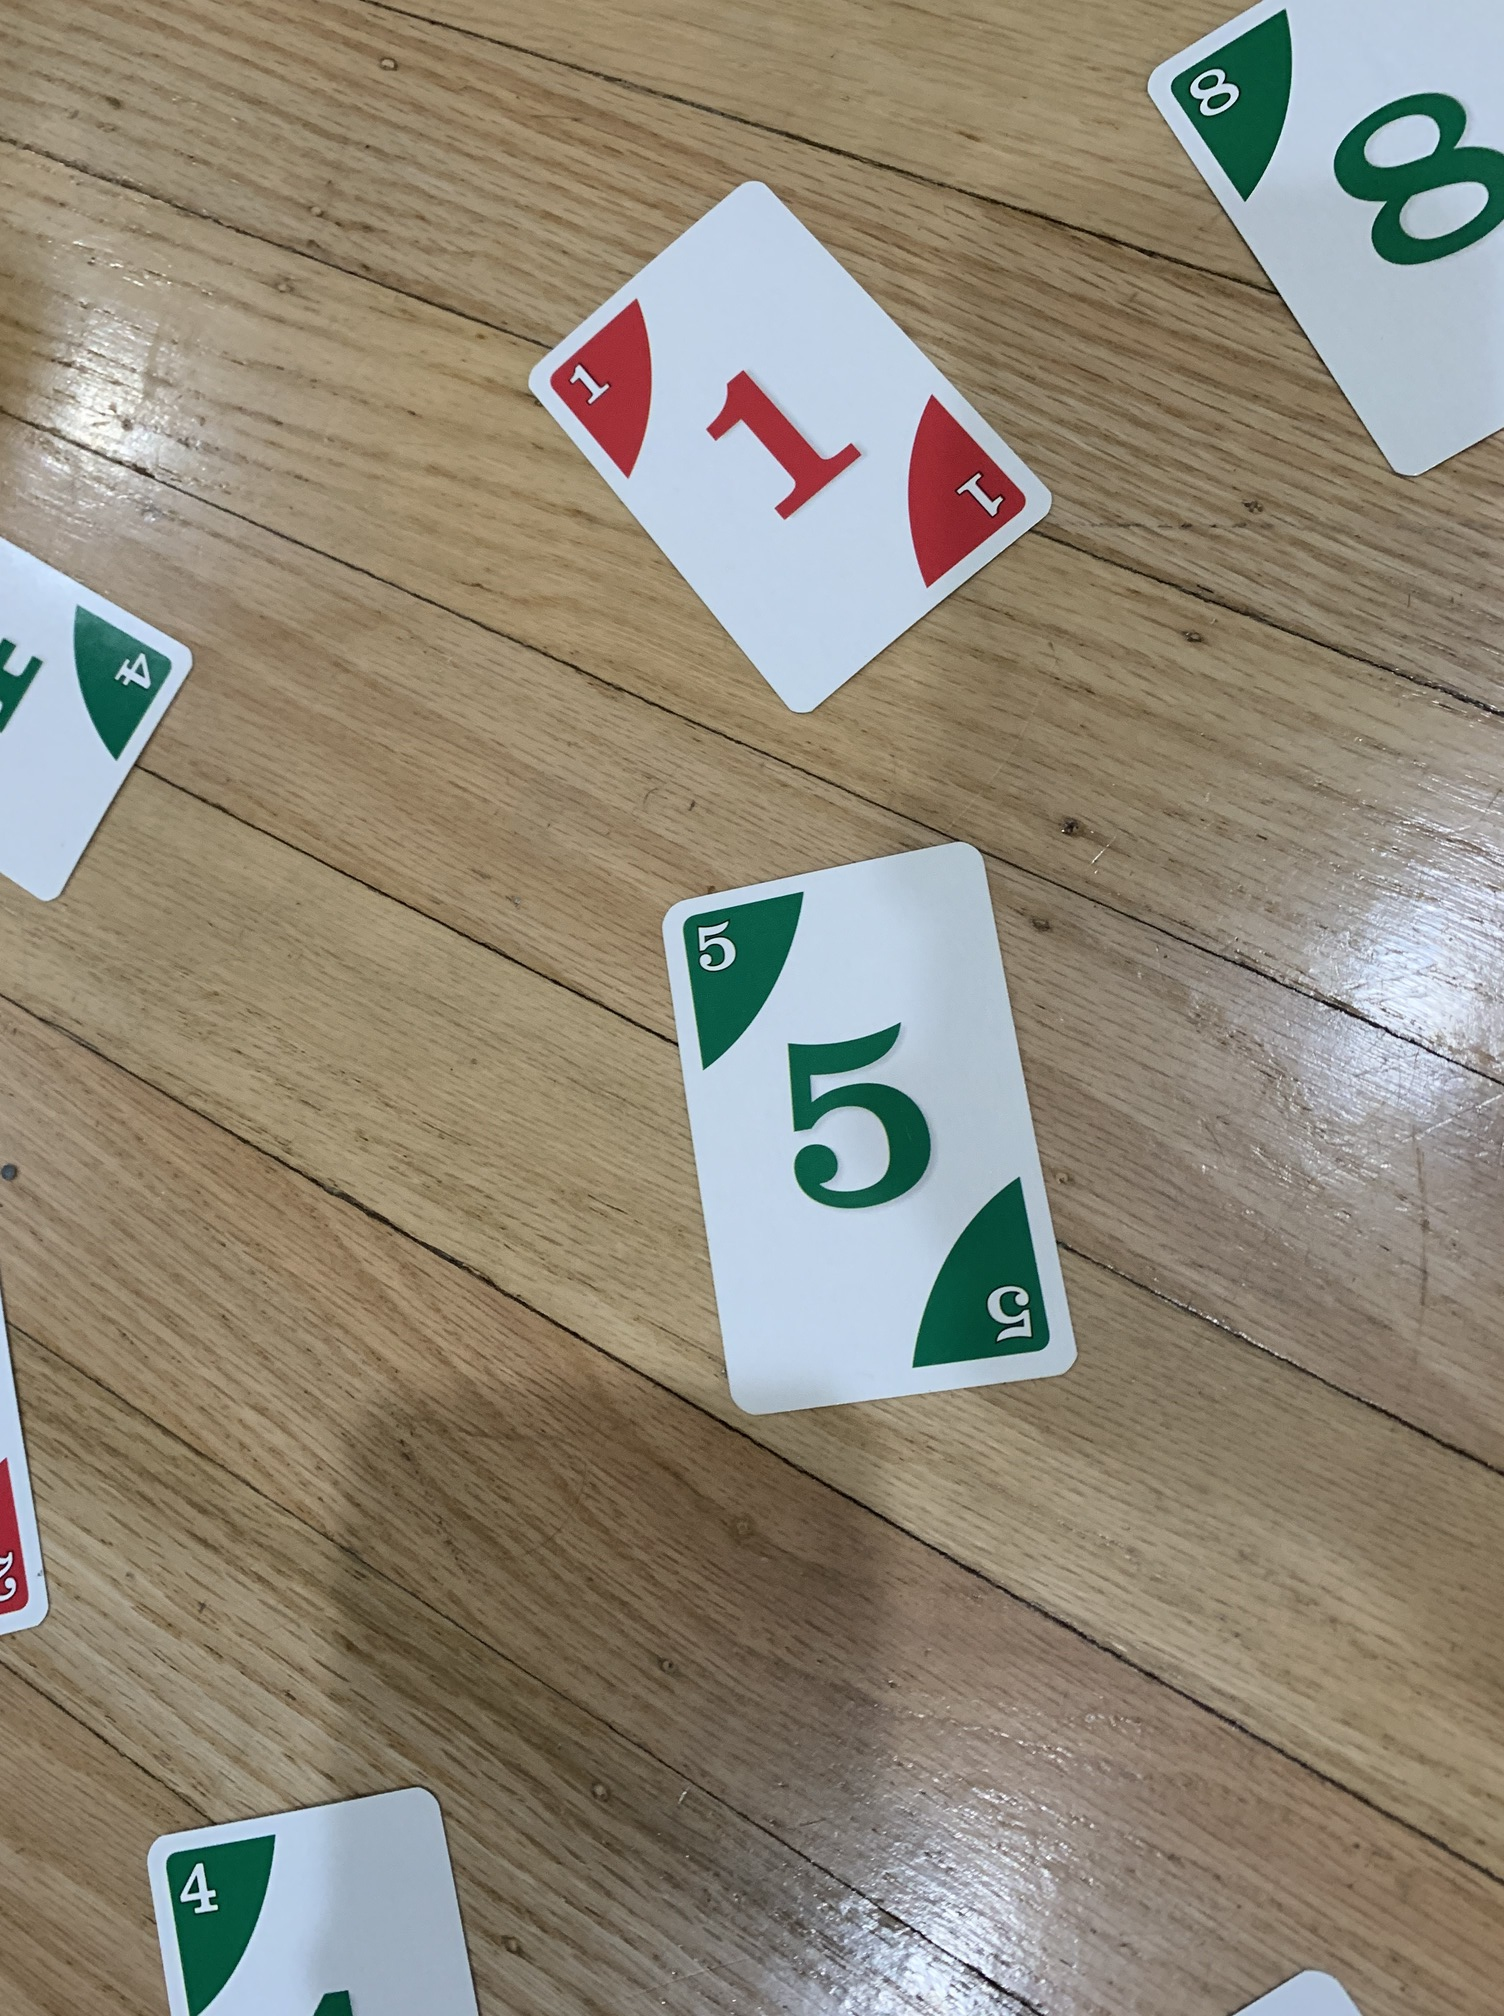five: (649, 828, 1092, 1420)
one: (521, 166, 1063, 724)
